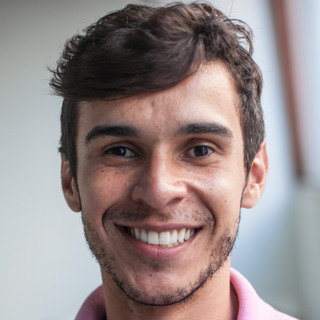eye: (95, 138, 145, 165), (173, 139, 224, 164)
